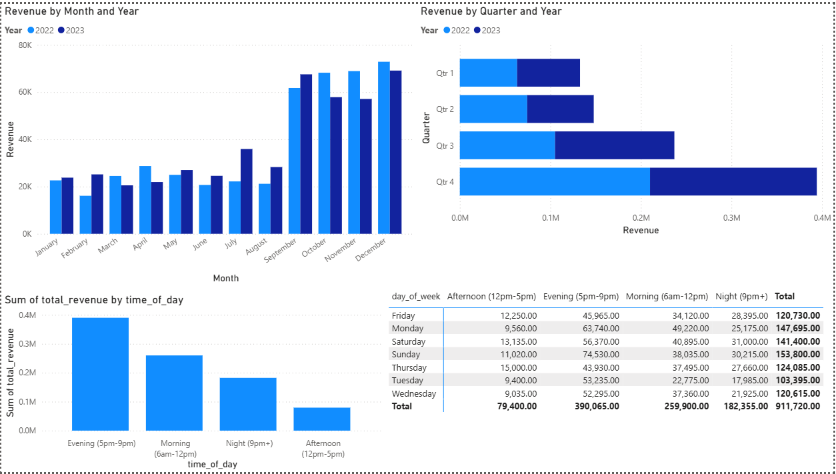

This screenshot's page, from the dashboard's own definition file:
{"tool":"powerbi","page":{"name":"Page 2","canvas":[1280,720],"ordinal":1},"visuals":[{"type":"clusteredColumnChart","fields":{"Category":["public retail_sales.sale_date.Variation.Date Hierarchy.Month"],"Y":["public retail_sales.Revenue"],"Series":["public retail_sales.sale_date.Variation.Date Hierarchy.Year"]},"box":[0,0,639.3,434.2],"z":0},{"type":"barChart","fields":{"Category":["public retail_sales.sale_date.Variation.Date Hierarchy.Quarter"],"Y":["public retail_sales.Revenue"],"Series":["public retail_sales.sale_date.Variation.Date Hierarchy.Year"]},"box":[639.3,0,641.3,360.5],"z":1000},{"type":"clusteredColumnChart","fields":{"Category":["public vw_time_of_day_analysis.time_of_day"],"Y":["Sum(public vw_time_of_day_analysis.total_revenue)"]},"box":[0,444.6,590.8,275.4],"z":2000},{"type":"pivotTable","fields":{"Rows":["public vw_time_of_day_analysis.day_of_week"],"Columns":["public vw_time_of_day_analysis.time_of_day"],"Values":["Sum(public vw_time_of_day_analysis.total_revenue)"]},"box":[590.8,433.8,689.2,284.6],"z":3000}]}

Visuals, with their boxes in screenshot pixels (x1, y1, x2, y2), scaled from the page's 1280x720 canvas onto the 836x474 screenshot:
clusteredColumnChart - public retail_sales.sale_date.Variation.Date Hierarchy.Month x public retail_sales.Revenue: 0:0:418:286
barChart - public retail_sales.sale_date.Variation.Date Hierarchy.Quarter x public retail_sales.Revenue: 418:0:835:237
clusteredColumnChart - public vw_time_of_day_analysis.time_of_day x Sum(public vw_time_of_day_analysis.total_revenue): 0:293:386:473
pivotTable - public vw_time_of_day_analysis.day_of_week x public vw_time_of_day_analysis.time_of_day: 386:286:835:473
